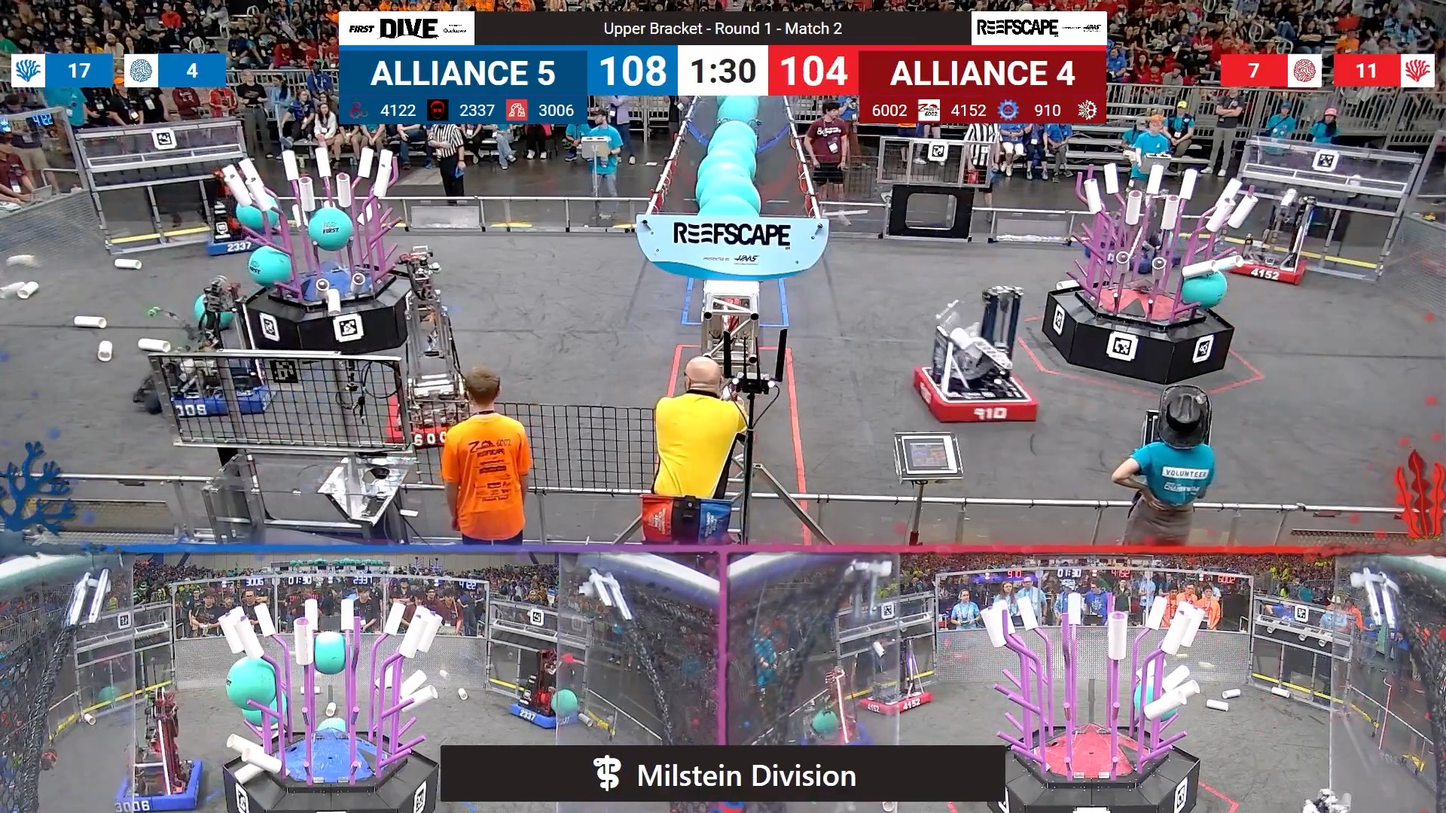bumpers: (909, 364, 1044, 430), (156, 355, 273, 422), (111, 755, 215, 812), (1216, 249, 1315, 288), (502, 696, 587, 733), (200, 220, 285, 257), (853, 684, 938, 717)
